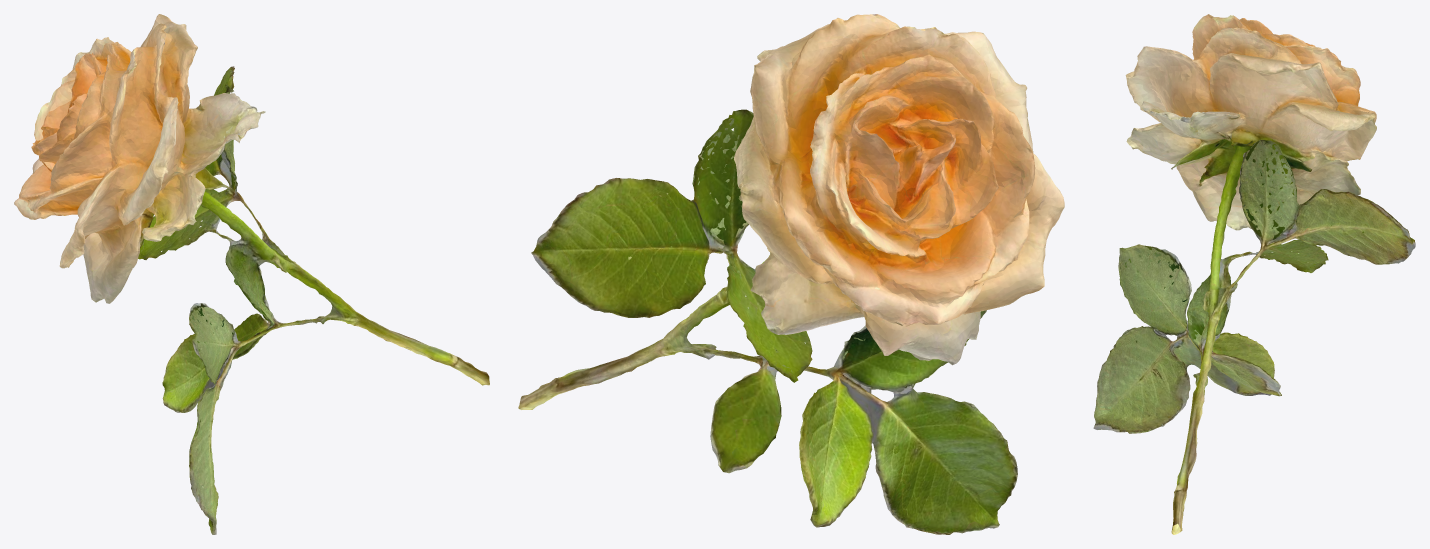
The model's file is rose.glb.
3 views of the same model, side by side, from view 1: azimuth 30°, elevation 25°; view 2: azimuth 150°, elevation 25°; view 3: azimuth 270°, elevation 25° (orthographic). The views are drawn at different scales.
Parts seen in each view (by area): view 1: Object_2; view 2: Object_2; view 3: Object_2.
Part boxes in pixels (x1=…): Object_2: x1=14, y1=14, x2=489, y2=534; Object_2: x1=518, y1=14, x2=1064, y2=534; Object_2: x1=1093, y1=14, x2=1415, y2=534.
Bounding box in the file's own units: 0.0964 × 0.0974 × 0.0685.
1 material, 1 textured.
